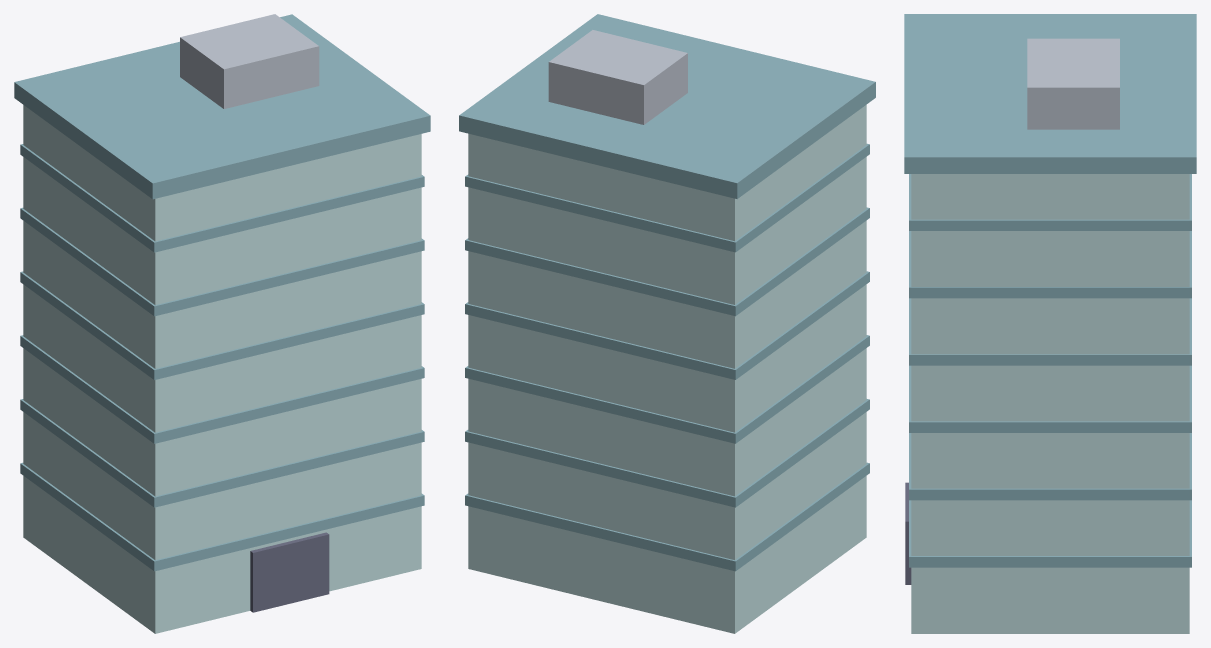
The model's file is office.glb.
3 views of the same model, side by side, from view 1: azimuth 30°, elevation 25°; view 2: azimuth 150°, elevation 25°; view 3: azimuth 270°, elevation 25° (orthographic). The views are drawn at different scales.
Visible parts, largest first — view 1: office_glass, office_glass_band, office_metal, office_black; view 2: office_glass, office_glass_band, office_metal; view 3: office_glass, office_glass_band, office_metal, office_black.
Boxes of the visible parts, x1,y1,x2,y2 form: office_glass: [23, 105, 421, 633]; office_glass_band: [14, 14, 430, 571]; office_metal: [180, 14, 319, 108]; office_black: [250, 532, 329, 612]; office_glass: [468, 105, 866, 633]; office_glass_band: [459, 14, 875, 571]; office_metal: [548, 30, 687, 124]; office_glass: [911, 174, 1189, 633]; office_glass_band: [904, 14, 1196, 567]; office_metal: [1027, 38, 1119, 129]; office_black: [905, 482, 911, 584].
Bounding box in the file's own units: 14.6 × 24.8 × 12.6.
